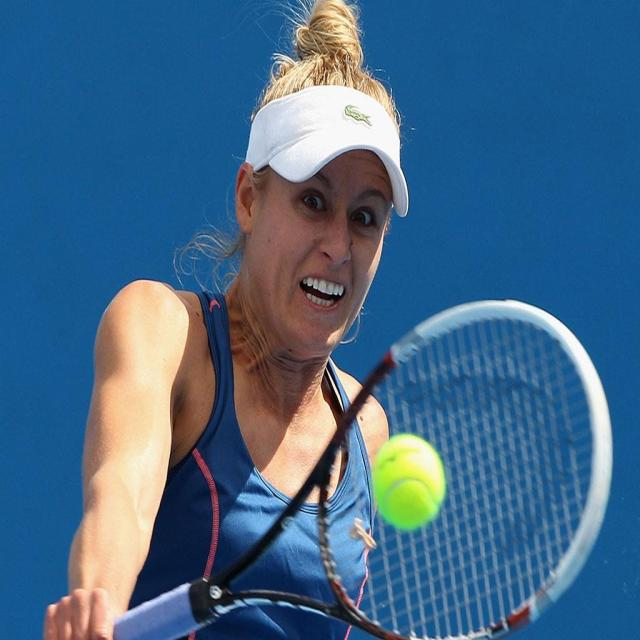Face: (260, 143, 393, 366)
